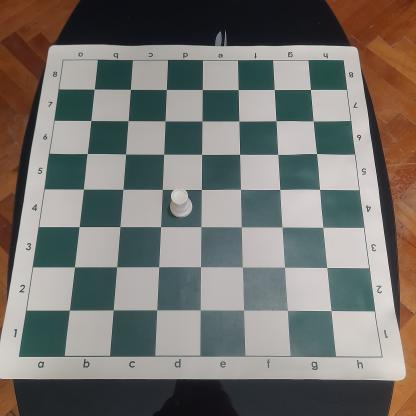white-rook: (167, 188, 197, 219)
